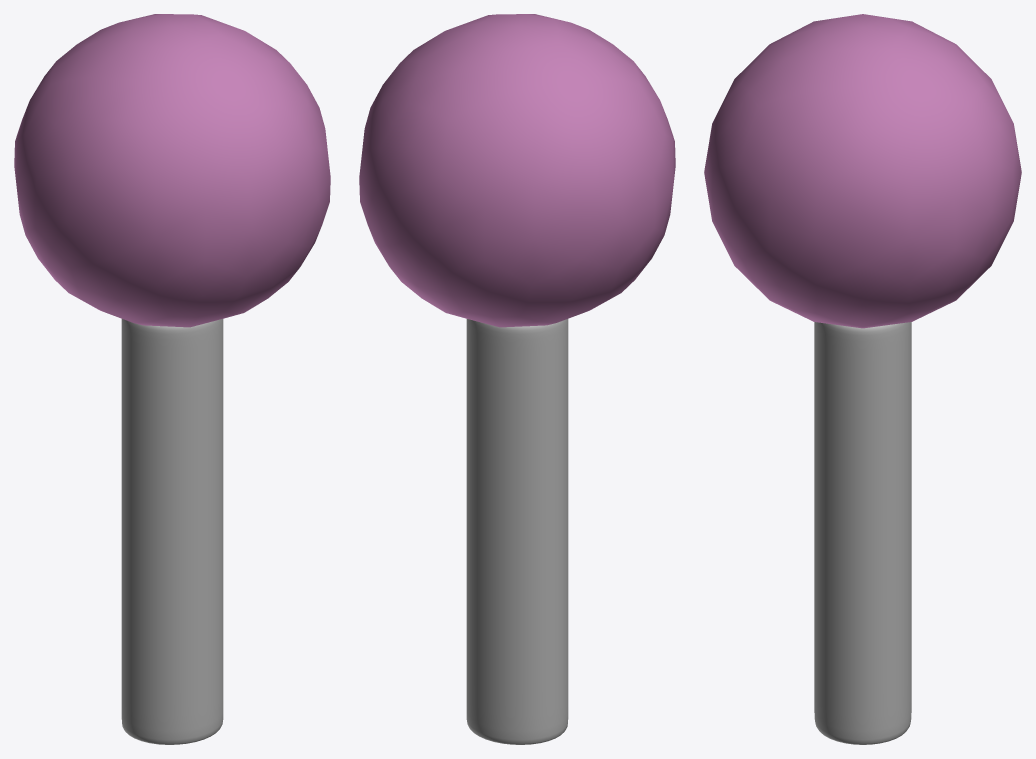
Rendered from Arcade_Cabinet_Joystick-D8i88ZkD.glb.
The picture shows the model from 3 angles, left to right: view 1: azimuth 30°, elevation 25°; view 2: azimuth 150°, elevation 25°; view 3: azimuth 270°, elevation 25°; orthographic projection.
Visible parts, largest first — view 1: JoystickStick; view 2: JoystickStick; view 3: JoystickStick.
Part boxes in pixels (x1,y1,x2,y2): JoystickStick: (14,14,330,744); JoystickStick: (359,14,675,744); JoystickStick: (704,14,1021,744).
Bounding box in the file's own units: 0.1632 × 0.3962 × 0.1635.
